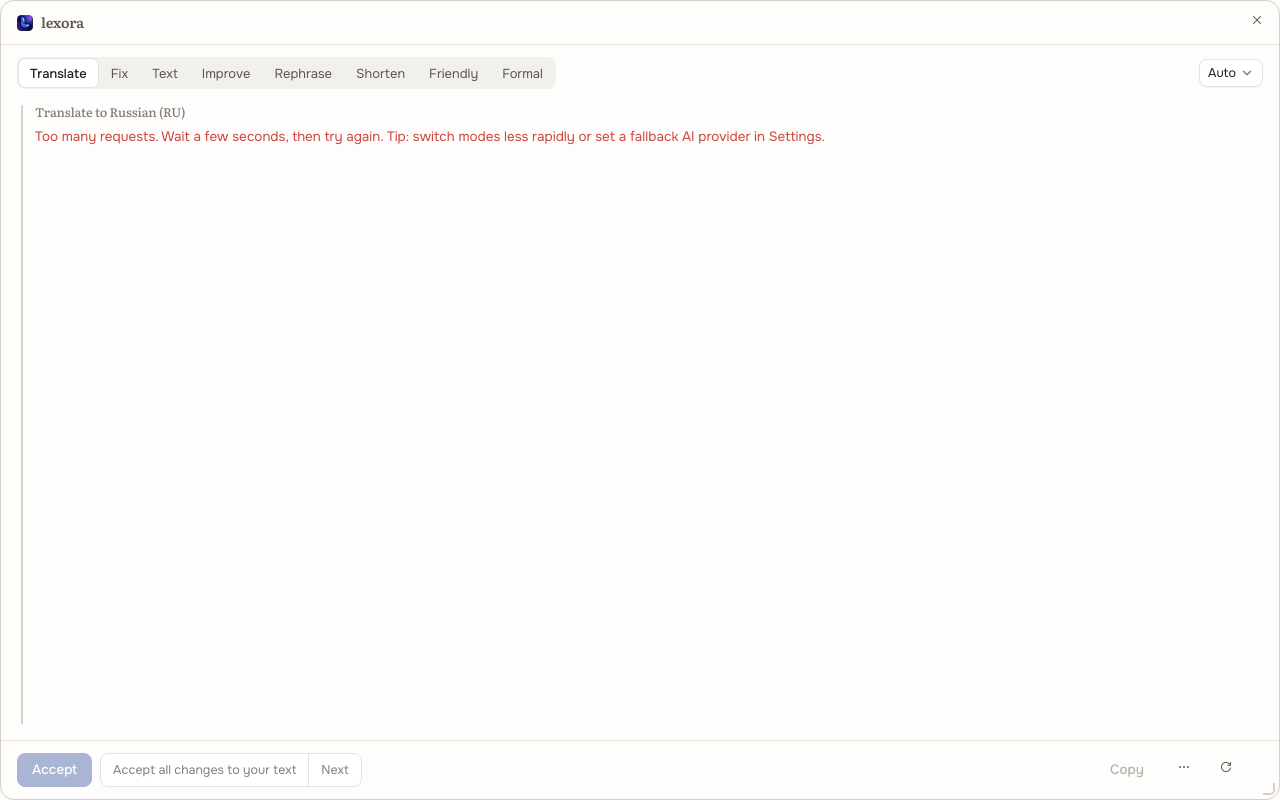
InlineAssistantWidget › shows a friendly rate-limit message and cools down after 429
The width and height of the screenshot is (1280, 800).
Expected: the message shows "Too many requests", [35,128,825,145]
What coordinates should you click on to do the following:
click the button named "Regenerate"
I would click on:
 (1226, 770)
Its box is [1209,753,1243,787].
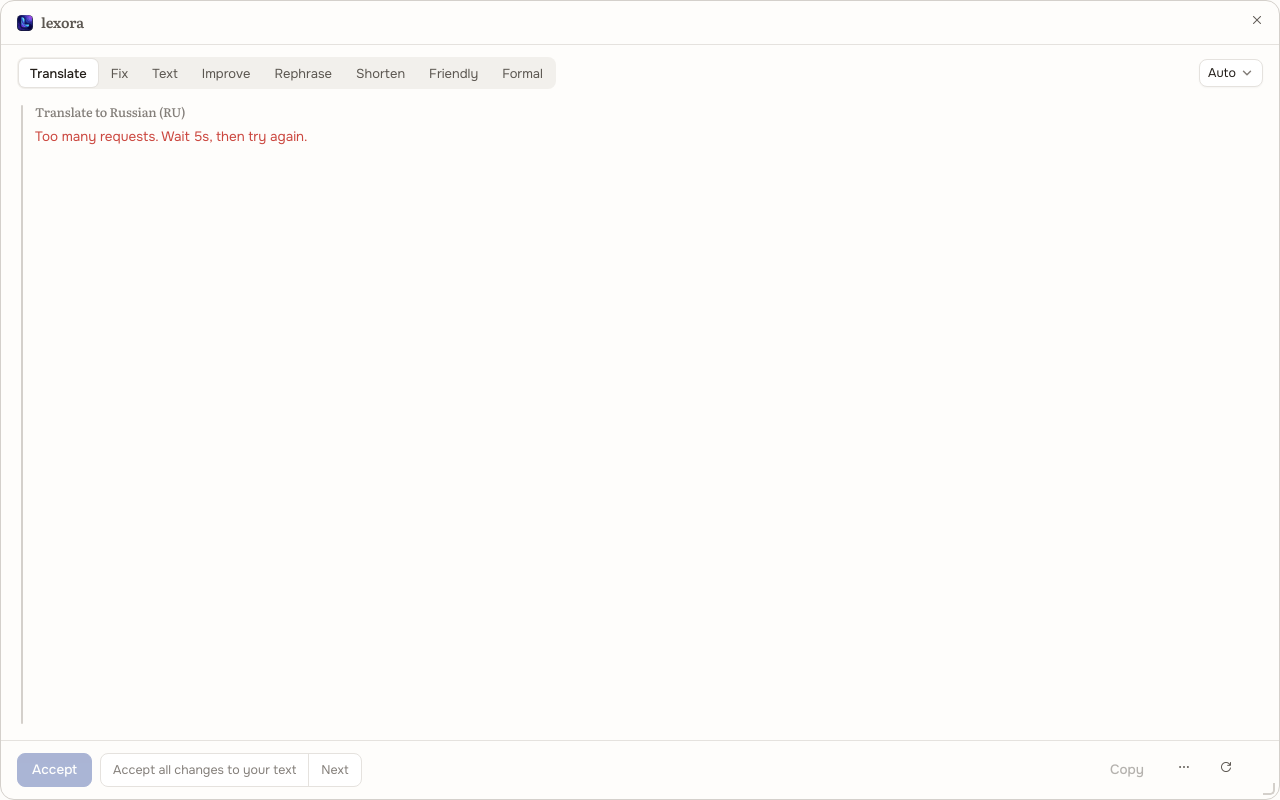
Result: the message reads "Too many requests. Wait 5s, then try again." at [35,128,308,145]
